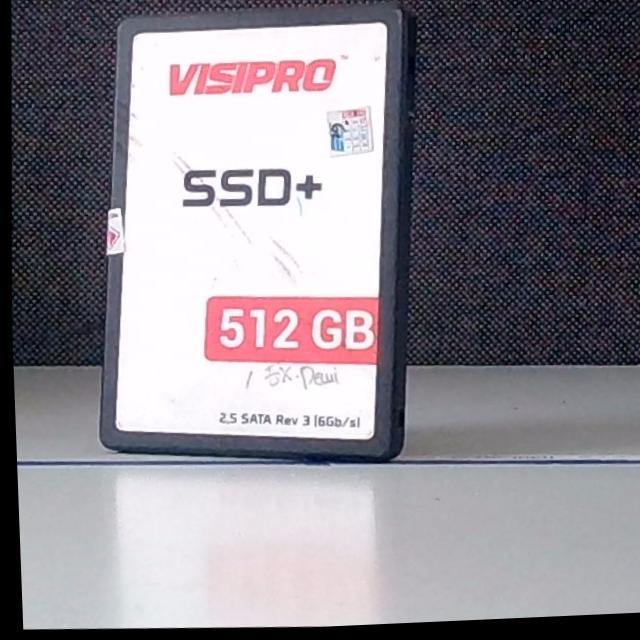ssd: (97, 9, 409, 464)
